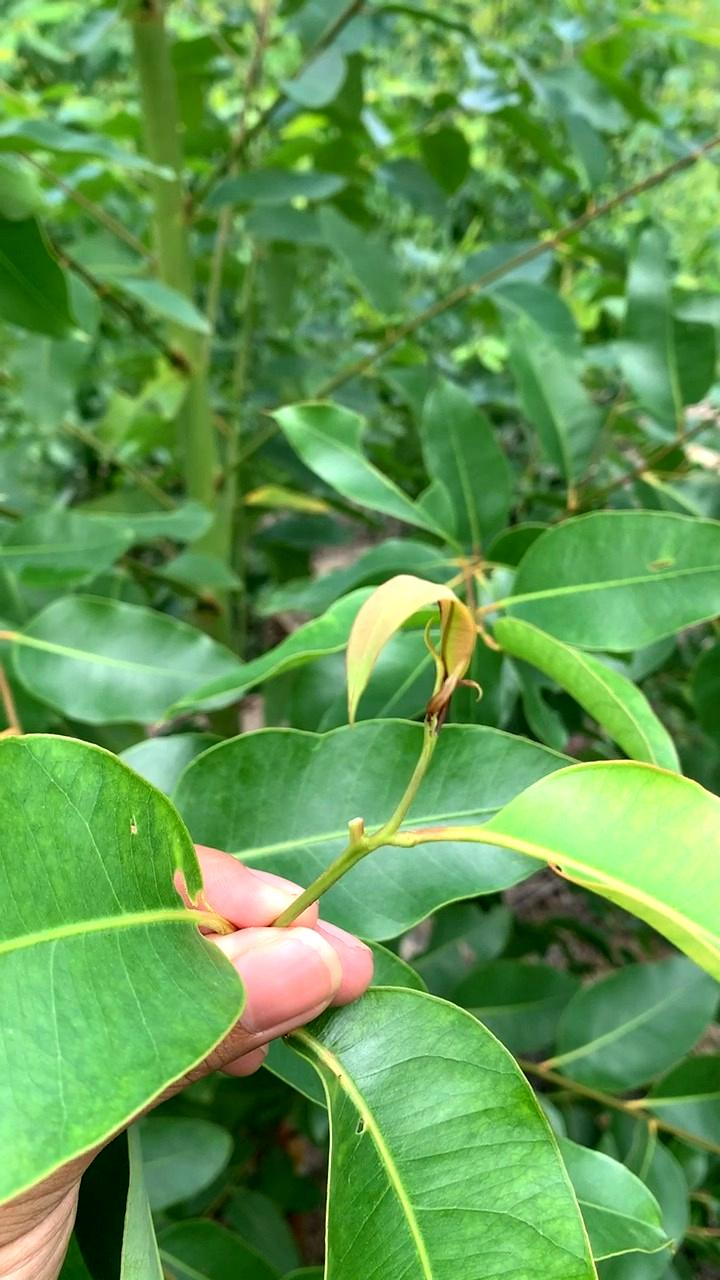Helopeltis-Withered Sprout: (327, 563, 496, 757)
